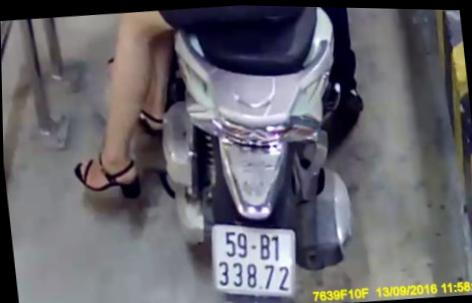LP: (209, 217, 300, 302)
